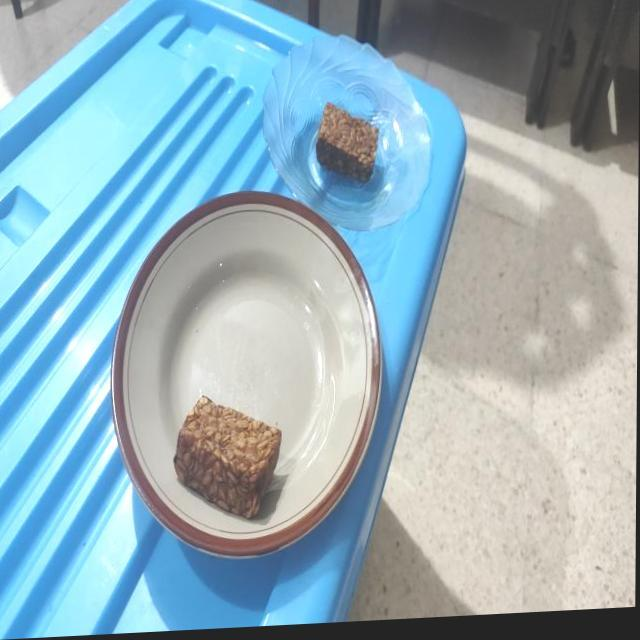tempe_goreng: (174, 396, 281, 518), (316, 102, 378, 182)
